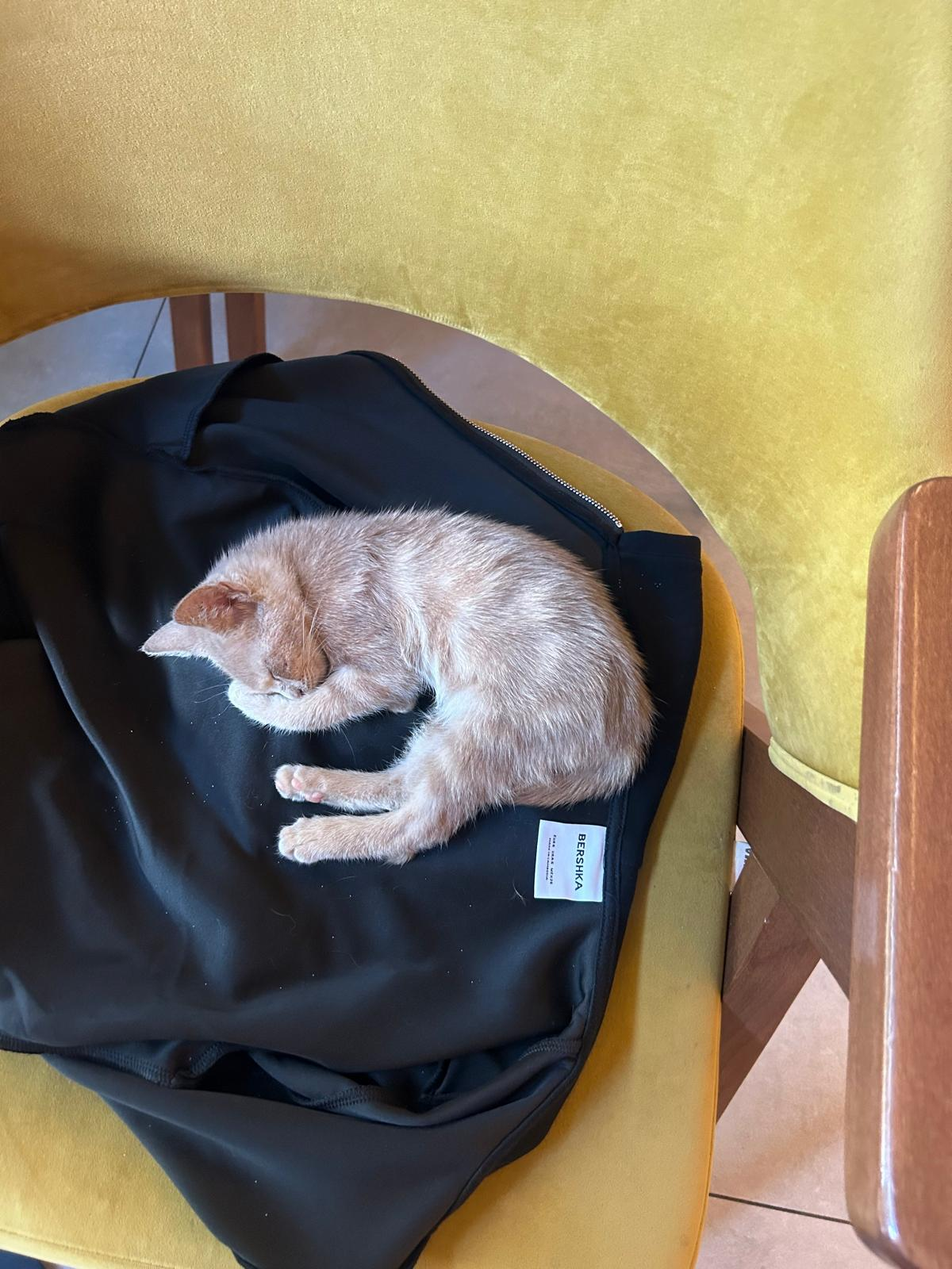macka: (142, 508, 659, 861)
